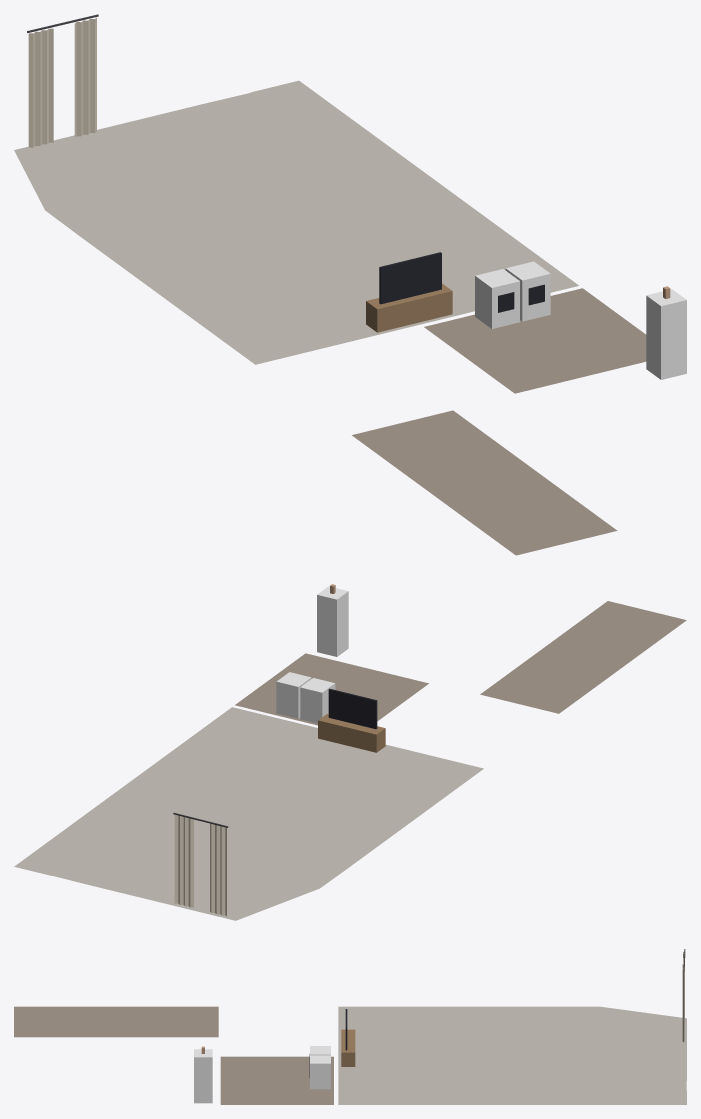
File: fine-s0.glb
3 renders of one model, top to bottom at view 1: azimuth 30°, elevation 25°; view 2: azimuth 150°, elevation 25°; view 3: azimuth 270°, elevation 25°, orthographic. The views are drawn at different scales.
Parts seen in each view (by area): view 1: soft-s0, tv-console.000, water-heater.000, washer.000, washer.001; view 2: soft-s0, tv-console.000, water-heater.000, washer.000, washer.001; view 3: soft-s0, water-heater.000, washer.001, tv-console.000.
Part boxes in pixels (x1=…): soft-s0: x1=14, y1=14, x2=646, y2=555; tv-console.000: x1=366, y1=252, x2=452, y2=332; water-heater.000: x1=646, y1=286, x2=686, y2=379; washer.000: x1=475, y1=269, x2=519, y2=328; washer.001: x1=505, y1=261, x2=550, y2=321; soft-s0: x1=14, y1=601, x2=686, y2=920; tv-console.000: x1=318, y1=688, x2=385, y2=752; water-heater.000: x1=317, y1=584, x2=348, y2=656; washer.000: x1=300, y1=678, x2=335, y2=723; washer.001: x1=276, y1=672, x2=311, y2=718; soft-s0: x1=14, y1=949, x2=686, y2=1104; water-heater.000: x1=194, y1=1046, x2=212, y2=1103; washer.001: x1=309, y1=1055, x2=330, y2=1089; tv-console.000: x1=341, y1=1009, x2=355, y2=1066.
Size of the model in its own units: 6.89 by 2.4 by 19.93.
